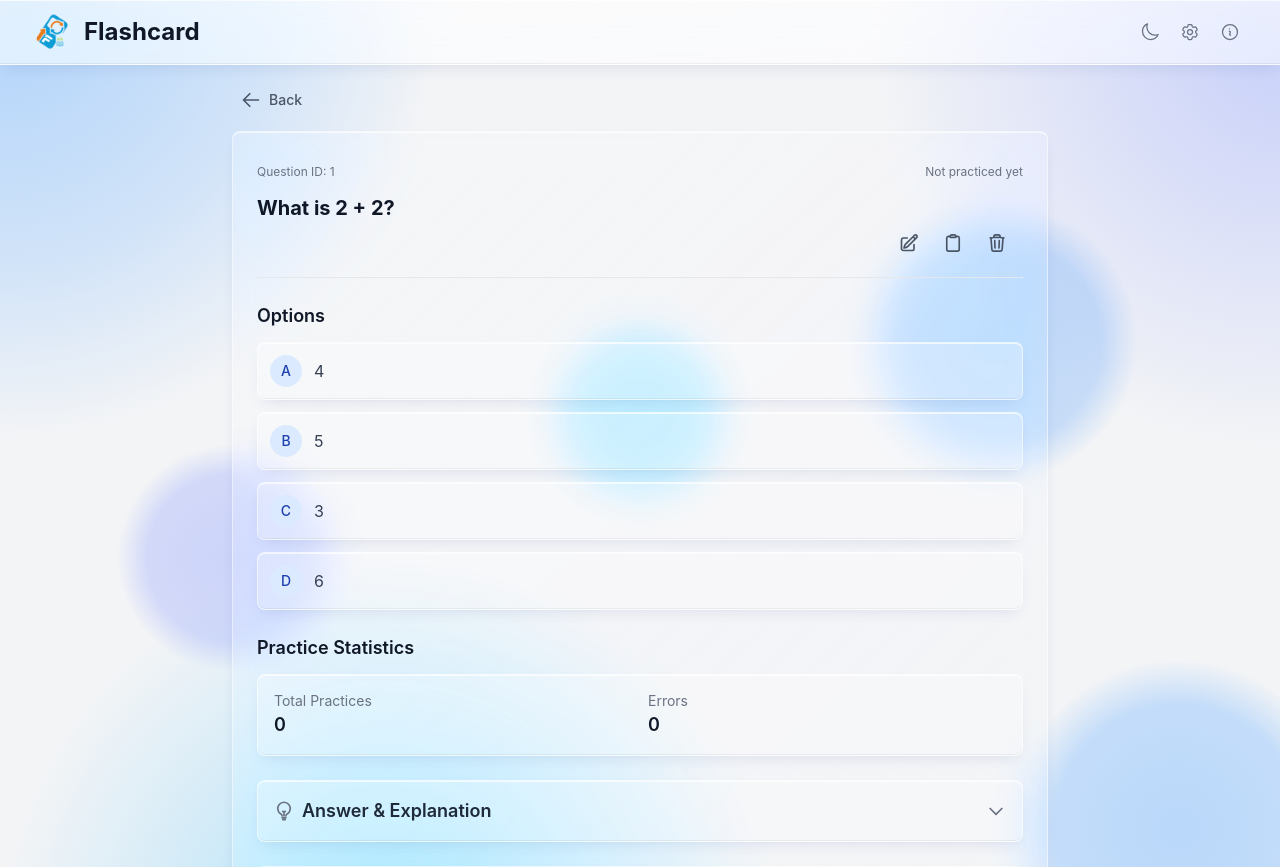
QuestionDetailPage › opens the edit modal when Edit is clicked
The width and height of the screenshot is (1280, 867).
Expected: the heading "What is 2 + 2?" is shown, [257,196,395,220]
Expected: the heading "Edit Question" is not shown
Click the button named "Edit question" at [909, 242], box [891,224,927,260]
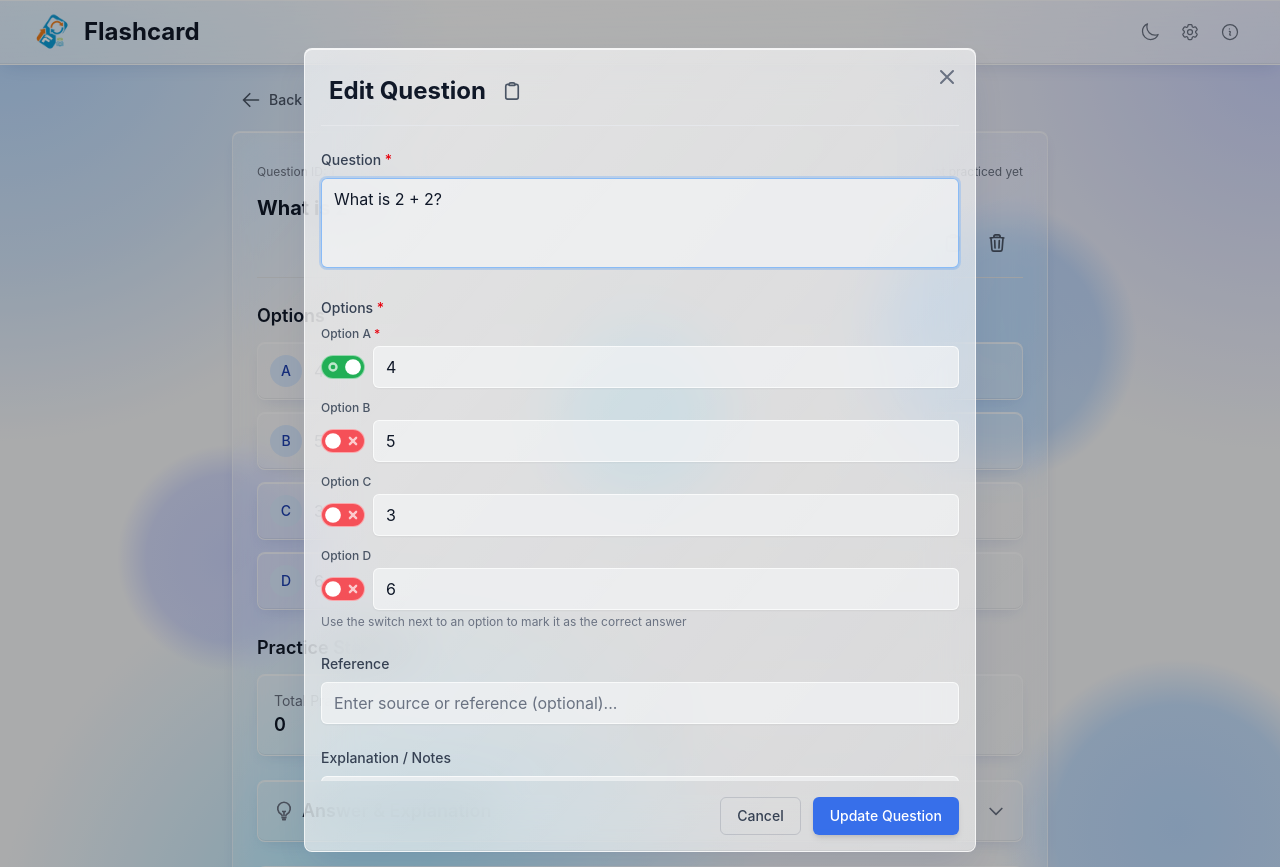
Result: the heading "Edit Question" is shown at [329,75,486,107]
